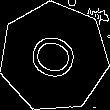O_E: (23, 28, 85, 86)
